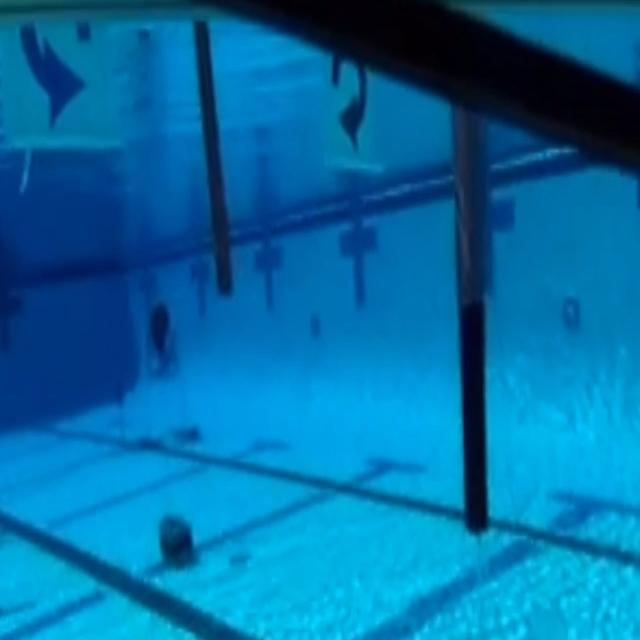Gate: (0, 13, 505, 521)
